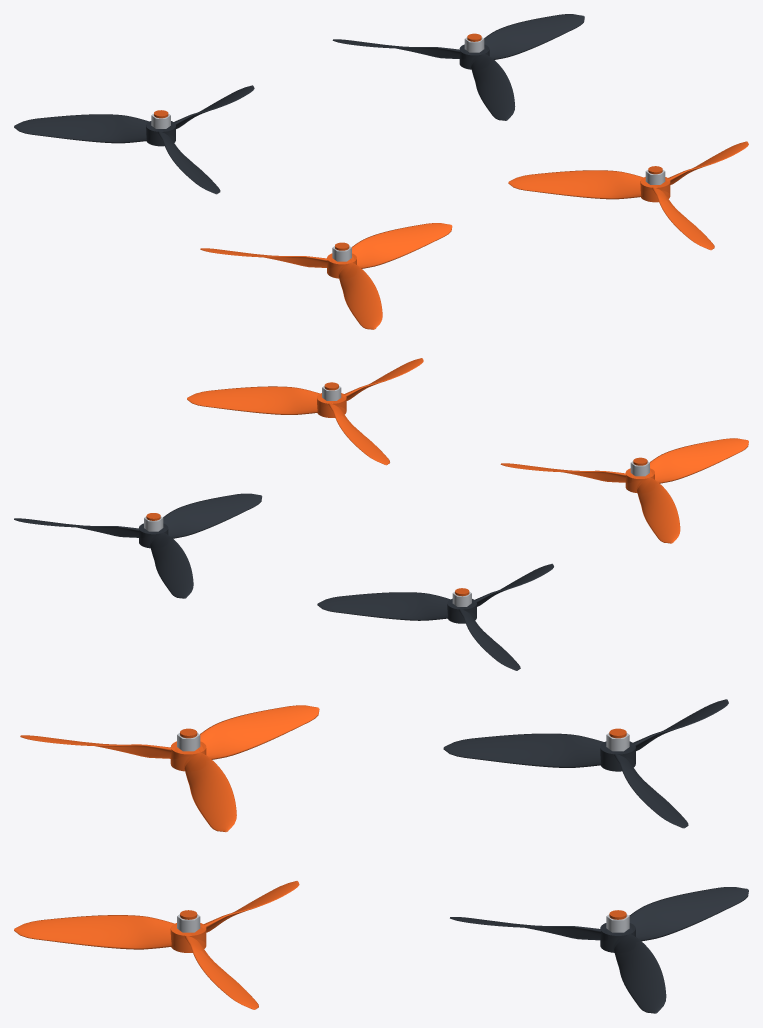
File: prop.glb
3 views of the same model, one above another, from view 1: azimuth 30°, elevation 25°; view 2: azimuth 150°, elevation 25°; view 3: azimuth 270°, elevation 25° (orthographic). The views are drawn at different scales.
Visible parts, largest first — view 1: Blade 2 (×4), Blade 1 (×4), Blade 3 (×4); view 2: Blade 1 (×4), Blade 3 (×4), Blade 2 (×4); view 3: Blade 3 (×4), Blade 2 (×4), Blade 1 (×4), Hub (×4).
Boxes of the visible parts, x1=… form: Blade 2 (×4): x1=14, y1=39, x2=643, y2=267; Blade 1 (×4): x1=174, y1=14, x2=748, y2=268; Blade 3 (×4): x1=158, y1=53, x2=714, y2=329; Blade 1 (×4): x1=14, y1=386, x2=626, y2=620; Blade 3 (×4): x1=163, y1=358, x2=748, y2=606; Blade 2 (×4): x1=150, y1=403, x2=680, y2=670; Blade 3 (×4): x1=14, y1=733, x2=604, y2=949; Blade 2 (×4): x1=200, y1=699, x2=748, y2=941; Blade 1 (×4): x1=184, y1=752, x2=688, y2=1013; Hub (×4): x1=170, y1=741, x2=635, y2=952.
Bounding box in the file's own units: 0.2746 × 0.0142 × 0.2723.
